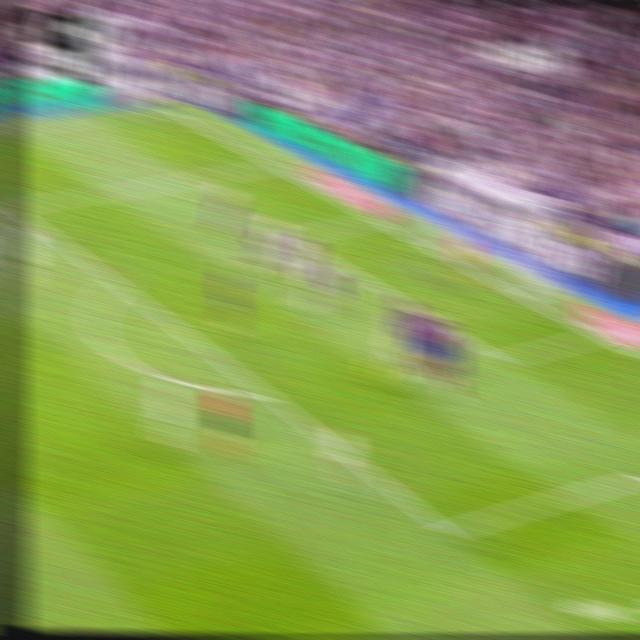bigarea_bottom_inner: (432, 511, 462, 550)
bigarea_top_inner: (3, 193, 24, 216)
bigarea_top_outter: (261, 154, 284, 174)
bottom_arc_area_intersection: (253, 379, 280, 408)
corner: (155, 101, 179, 117)
top_arc_area_intersection: (104, 269, 129, 294)
